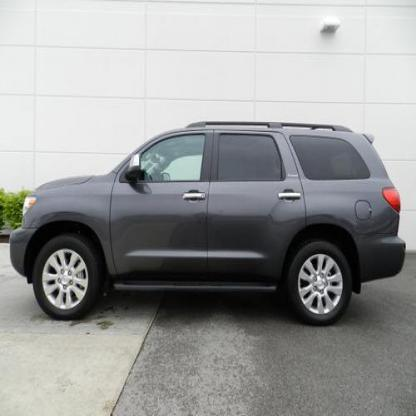car: (10, 120, 407, 329)
